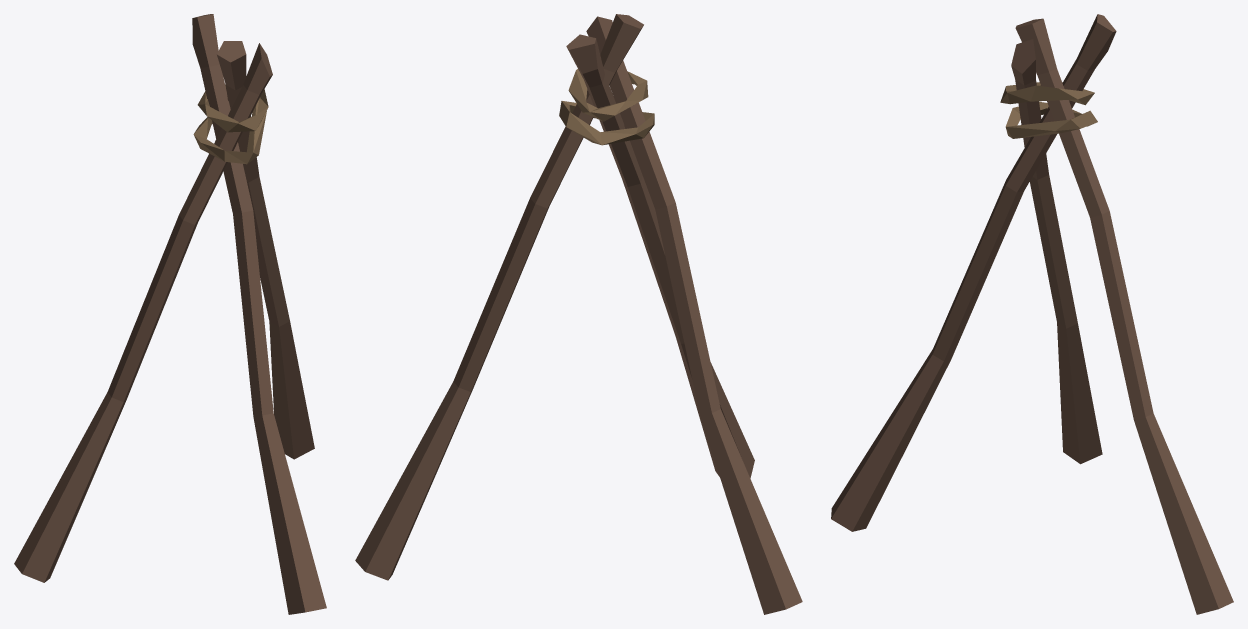
Rendered from FireTriangle.fbx.
3 renders of one model, left to right at view 1: azimuth 30°, elevation 25°; view 2: azimuth 150°, elevation 25°; view 3: azimuth 270°, elevation 25°, orthographic. The views are drawn at different scales.
Visible parts, largest first — view 1: FireTriangle; view 2: FireTriangle; view 3: FireTriangle.
Boxes of the visible parts, bbox=[...] form: FireTriangle: bbox=[14, 14, 326, 614]; FireTriangle: bbox=[355, 14, 802, 614]; FireTriangle: bbox=[831, 14, 1233, 614].
Size of the model in its own units: 1.08 by 1.03 by 1.49.
